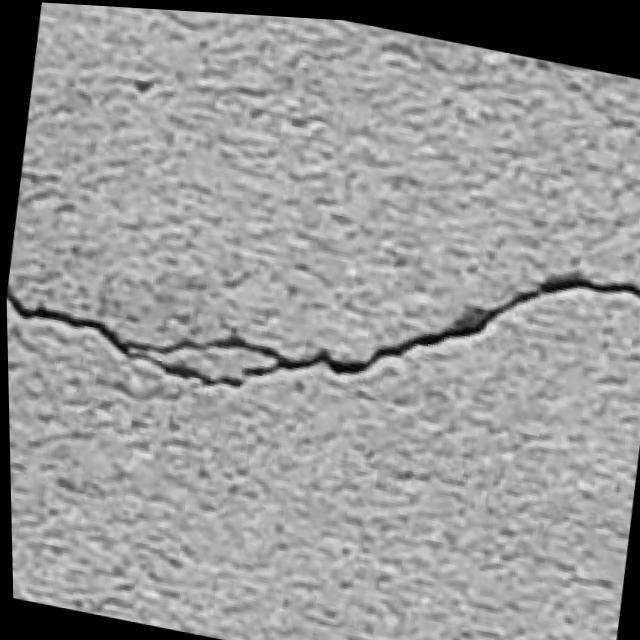Crack: (3, 147, 640, 470)
